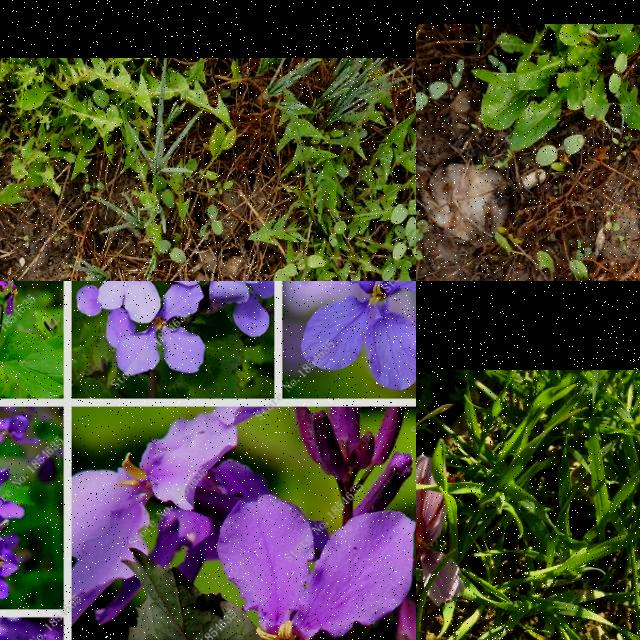flower: (416, 455, 466, 611)
